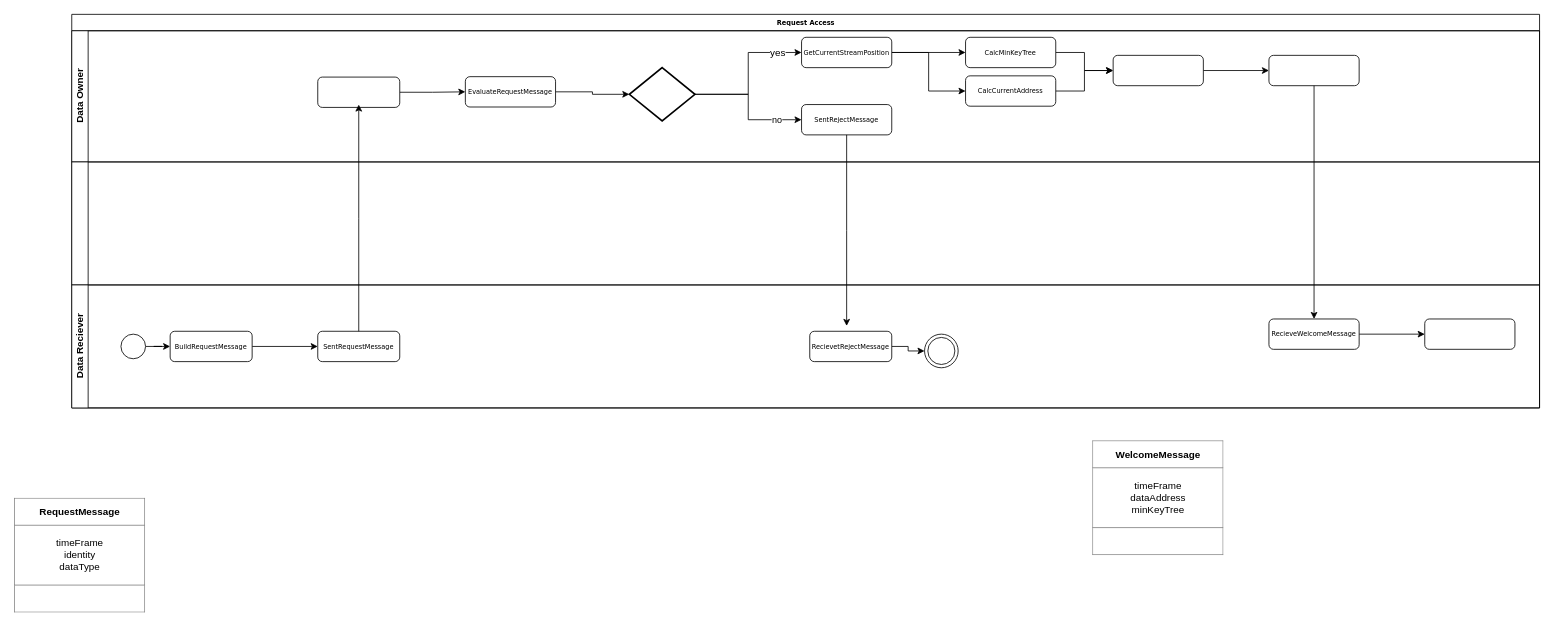
Image size: 1554x627. Some labels were removed from this diagram. The centre of each missing label's shape, as x and y in pixels:
"accecpt" goes at (x=661, y=93).
"Data Publisher" goes at (x=805, y=223).
"GenerateWelcomeMessage" goes at (x=1157, y=70).
"RevieveRequestMessage" goes at (x=358, y=91).
"SentWelcomeMessage" goes at (x=1313, y=70).
"StartRecievingData" goes at (x=1469, y=333).
